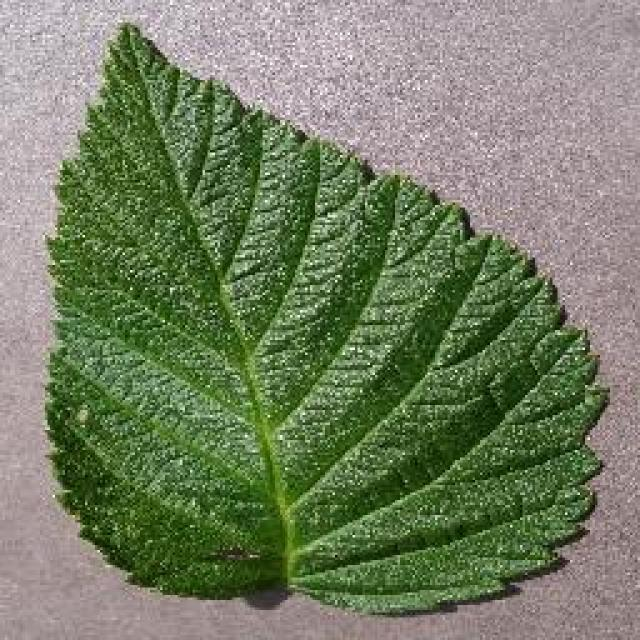Ras_healthy: (65, 119, 572, 587)
